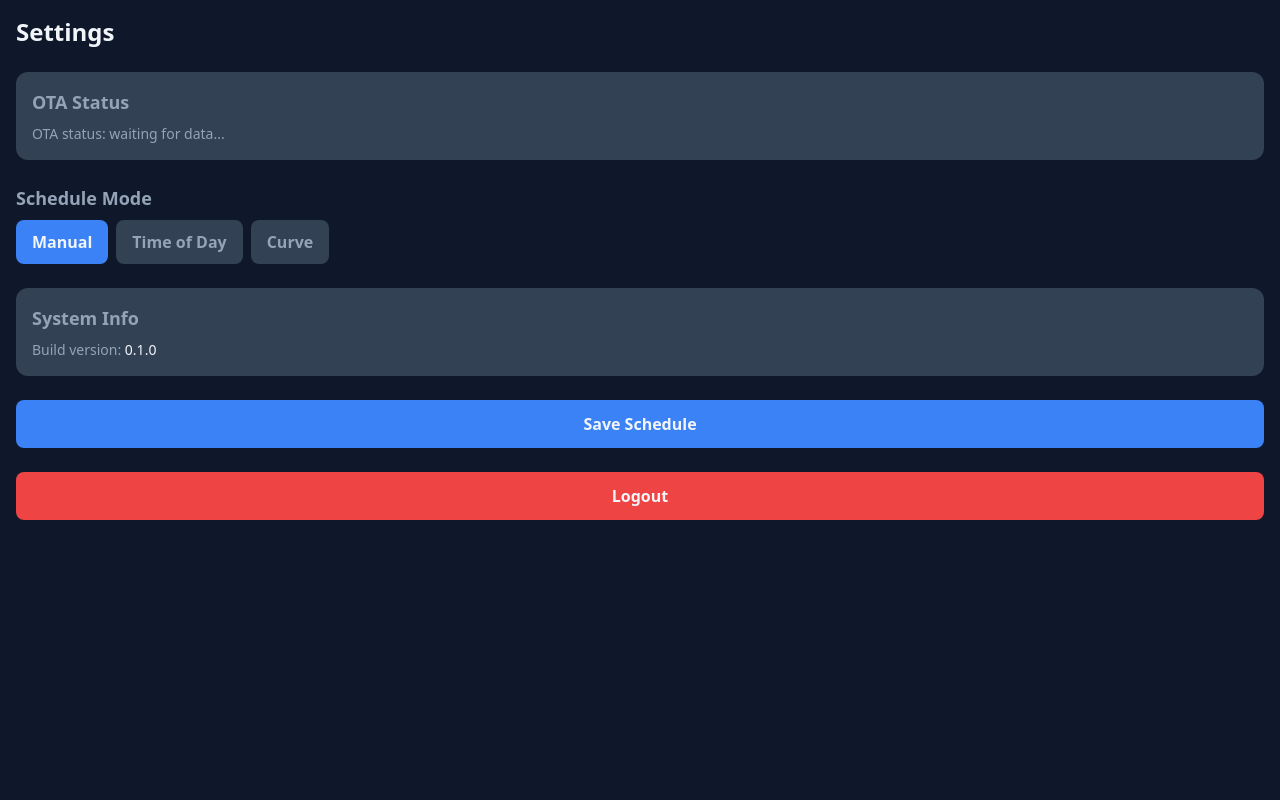
SettingsScreen › save button shows success message on 200 response
Click the button with test id "save-btn" at (640, 424), box left=16, top=400, right=1264, bottom=448
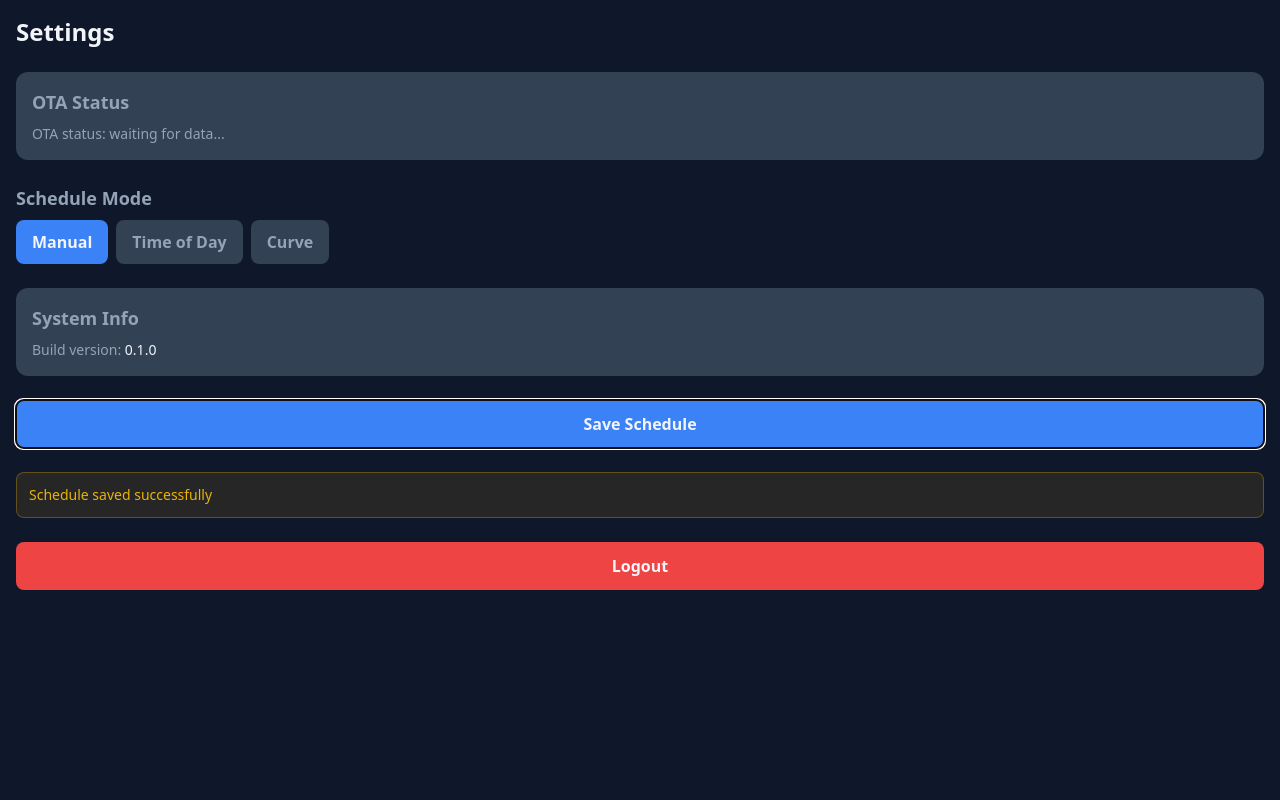
Expected: the text "Schedule saved successfully" is shown, left=16, top=472, right=1264, bottom=518
